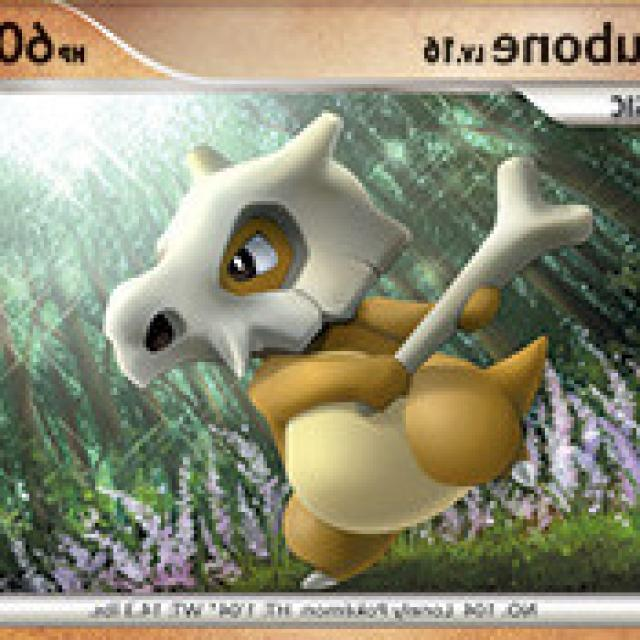Cubone: (95, 124, 576, 579)
